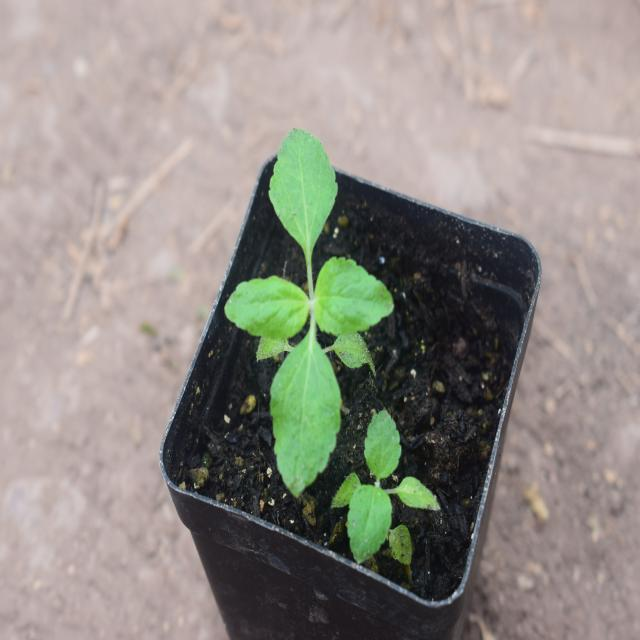billygoat_weed: (233, 149, 371, 492), (334, 373, 429, 577)
